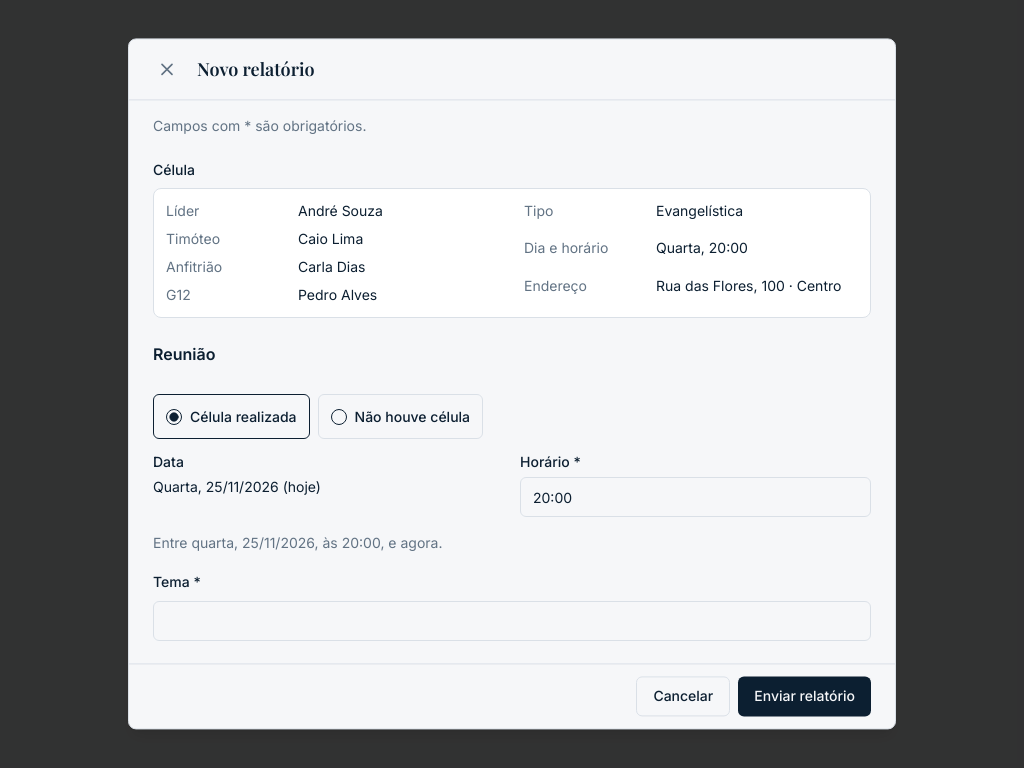
Test: E2.11: o formulário de relatório › UX-26: a recusa do servidor com 'date_time' vai para o Horário, sem toast, e o formulário fica
This screenshot has width=1024, height=768.
In the field labelled "Tema *": (512, 622) x1=153 y1=602 x2=871 y2=642, type "A fé que vence"
(page scrolled)
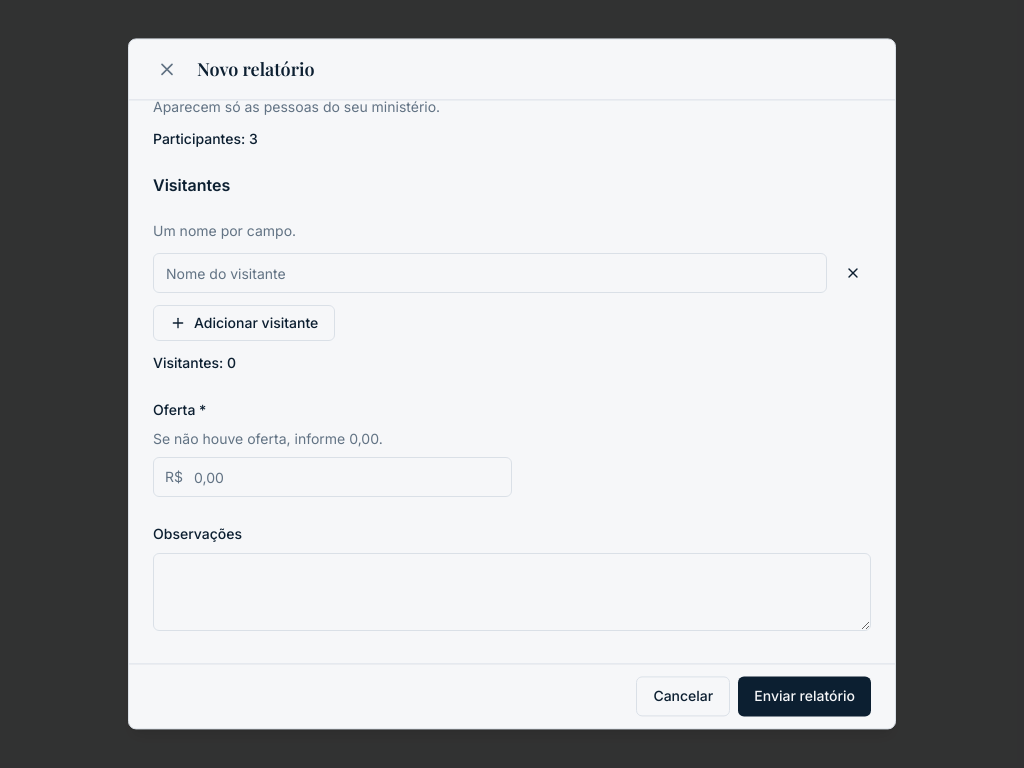
In the field labelled "Oferta *": (332, 478) x1=153 y1=458 x2=512 y2=498, type "0"
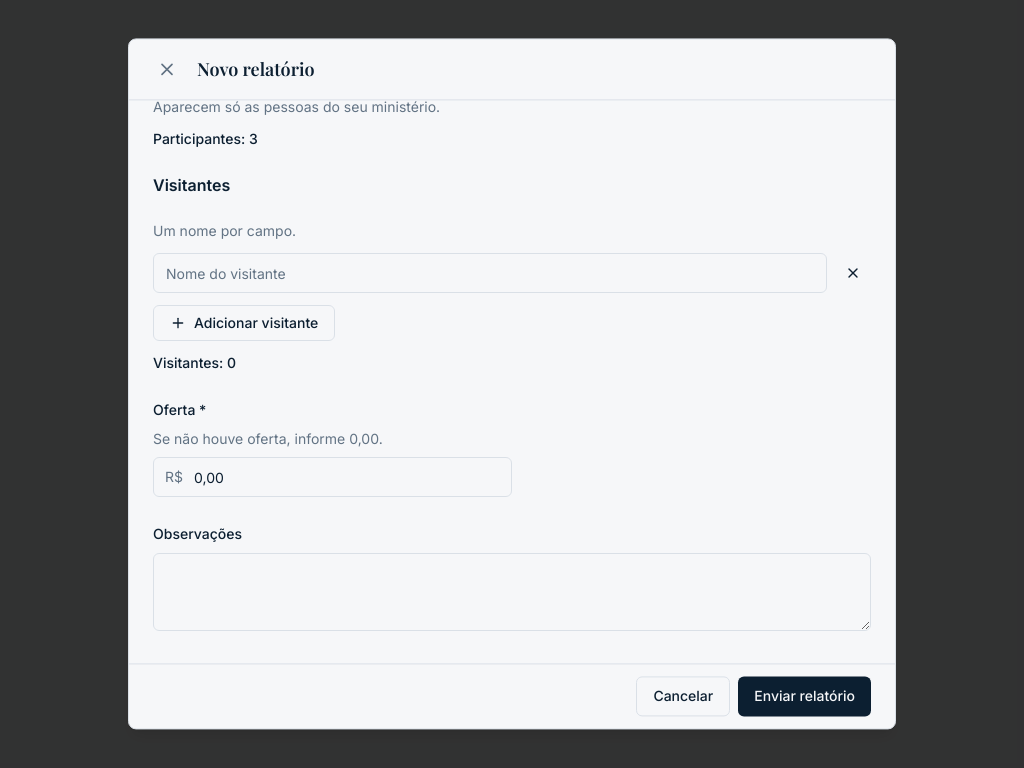
Click the button "Enviar relatório": (805, 697) x1=738 y1=677 x2=871 y2=717
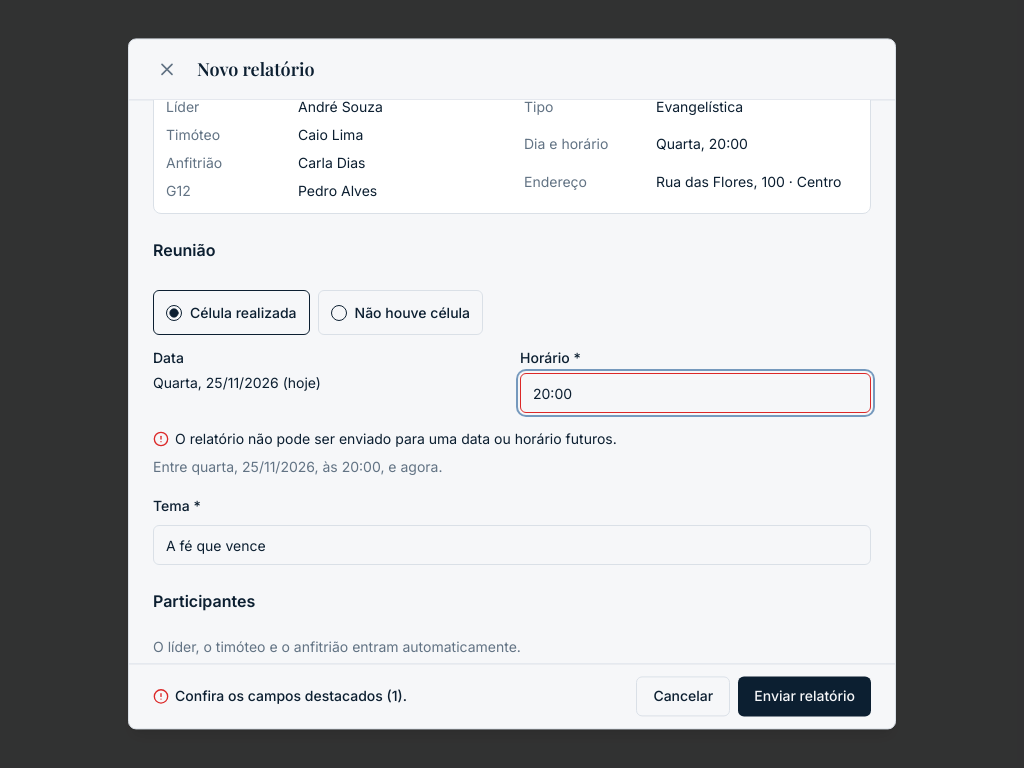
Expected: the field labelled "Horário *" is marked as invalid, x1=520 y1=374 x2=871 y2=414
